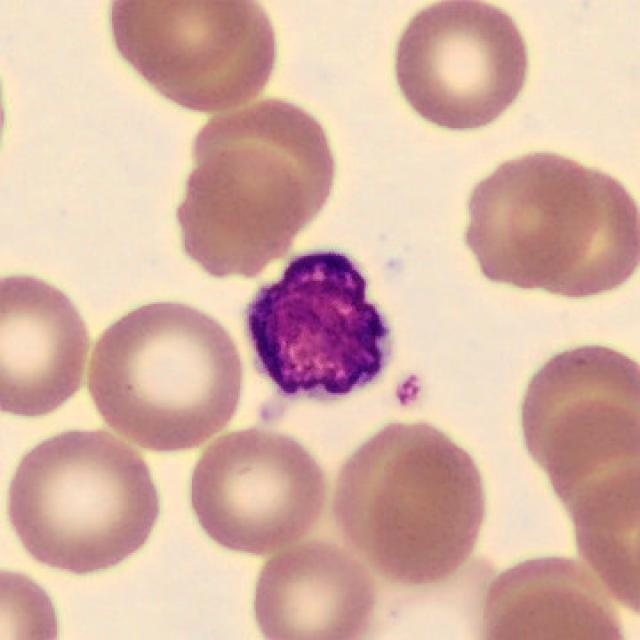Linfocito: (251, 256, 386, 393)
